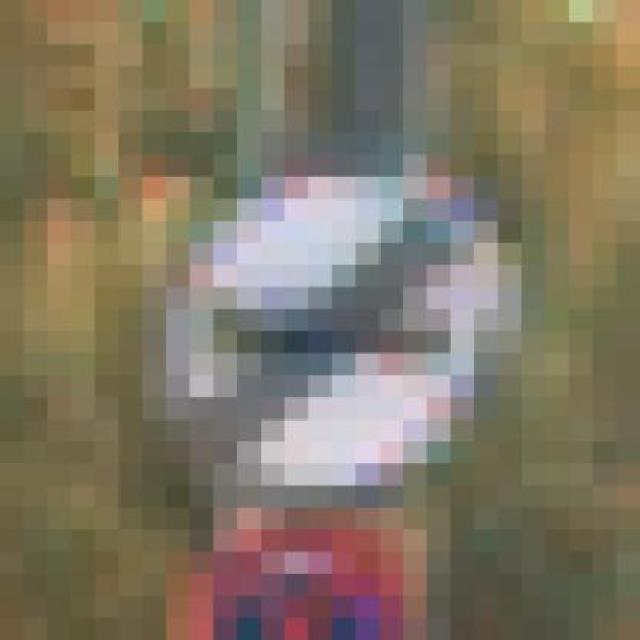No_Over_Taking: (118, 110, 545, 508)
